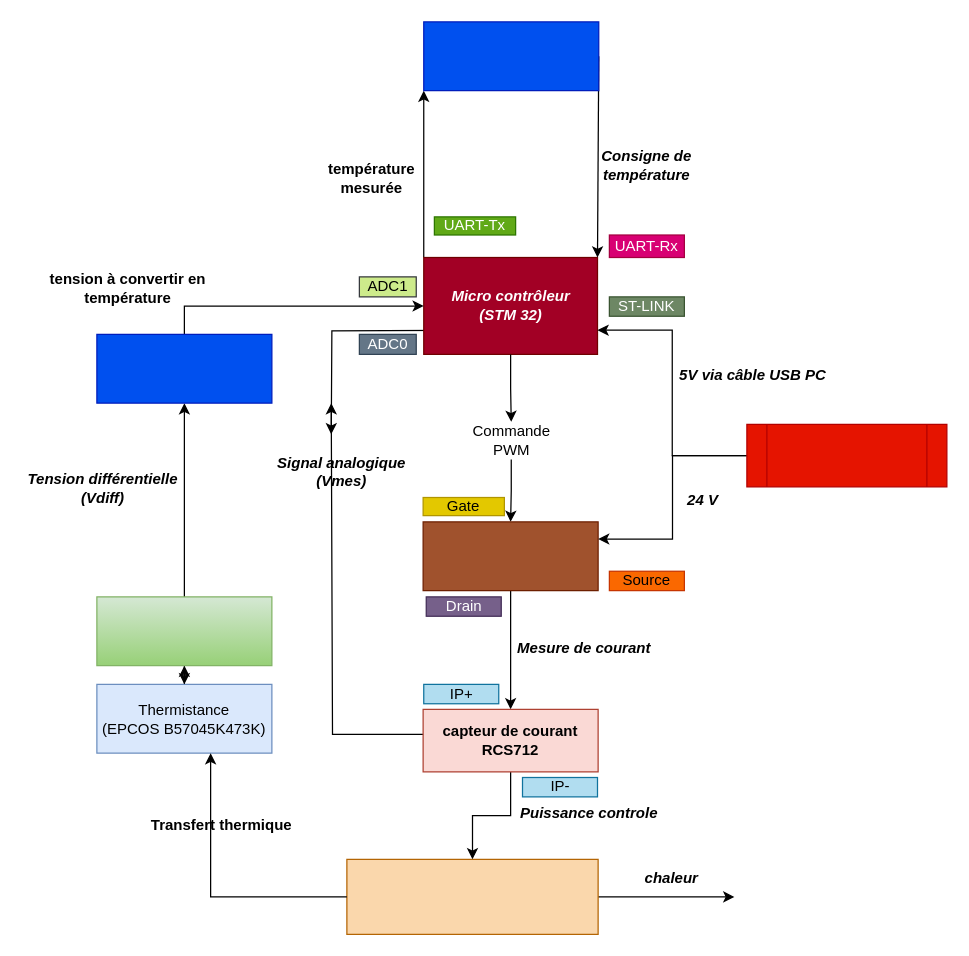
The diagram is 969 pixels wide and 956 high, and some of its shapes have lost their labels. The box of each missing label's shape, as (x1, y1, x2, y2) in pixels:
Alimentaion: (746, 423, 947, 487)
Amplificateur d'instrumation: (96, 333, 272, 403)
Conditionner Pont de wheastone: (96, 596, 272, 666)
IHM: (422, 21, 599, 91)
Pilote de la puissance (transistor MOSFET): (422, 521, 598, 591)
Resistance (DBK HP03-1/04-24): (346, 858, 598, 934)
